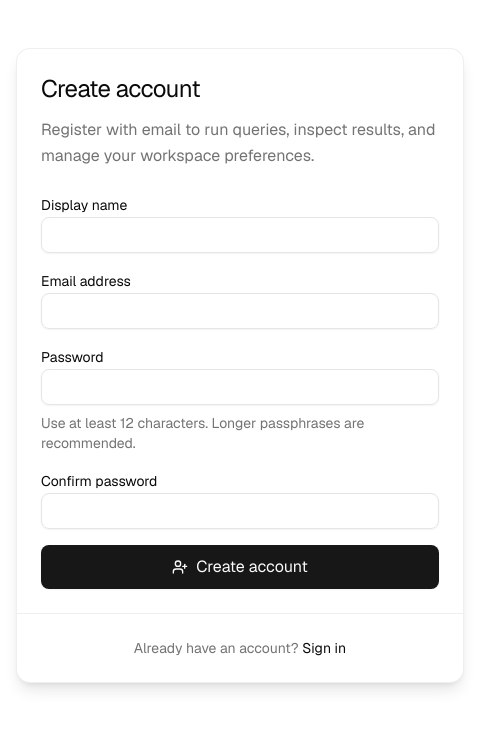
Test case: SignupPage › shows client-side validation errors for invalid input
Type "A" into the field labelled "Display name" at (240, 234), box [41,216,439,252]
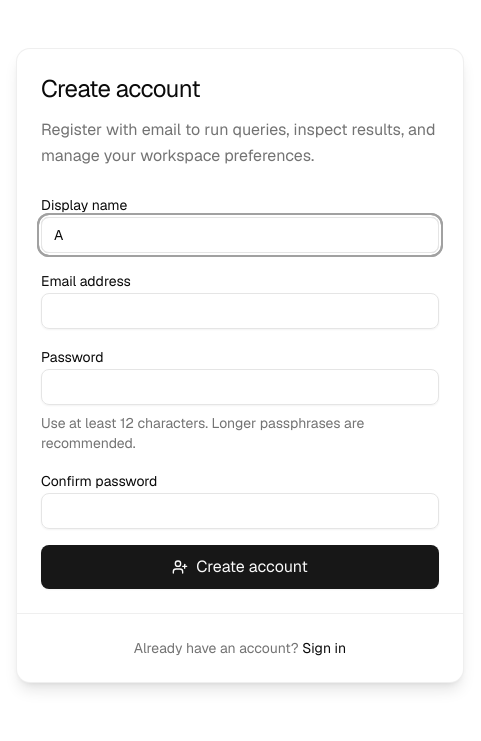
Type "not-an-email" into the field labelled "Email address" at (240, 310), box [41,292,439,328]
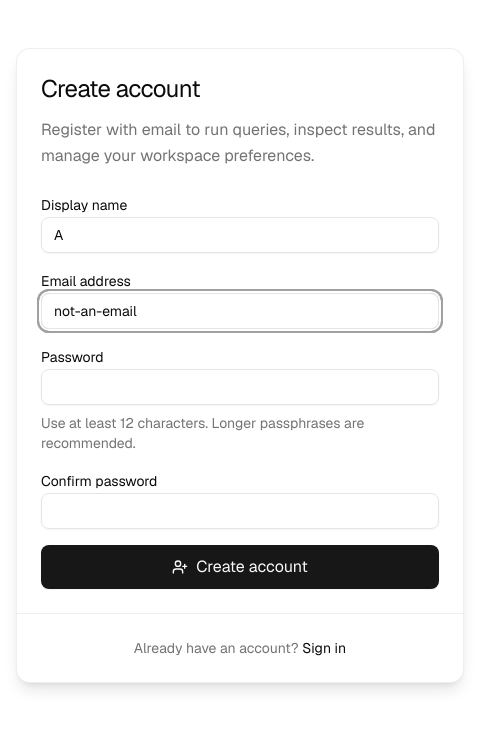
Type "short" into the password field labelled "Password" at (240, 386), box [41,368,439,404]
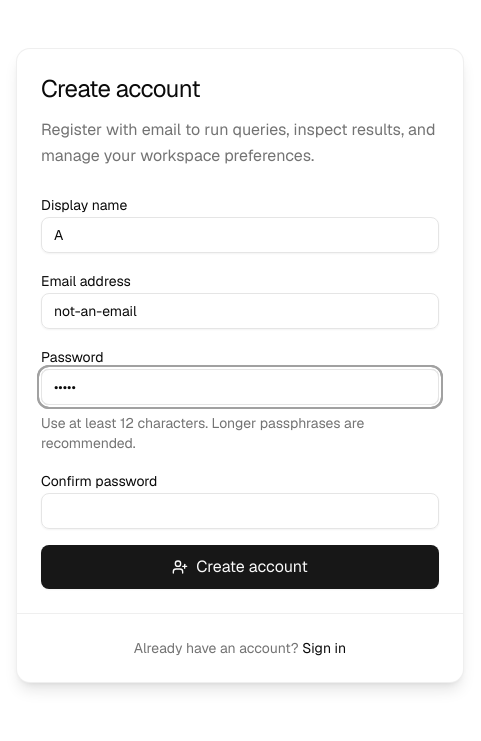
Type "different" into the password field labelled "Confirm password" at (240, 510), box [41,492,439,528]
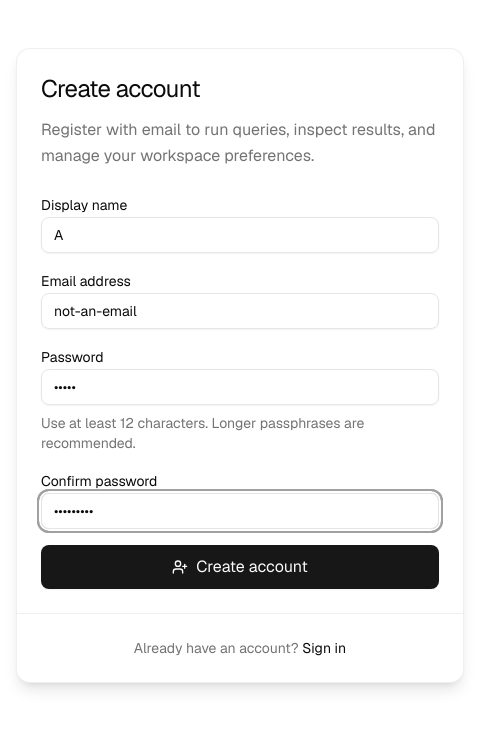
Click the button "Create account" at (240, 566), box [41,544,439,588]
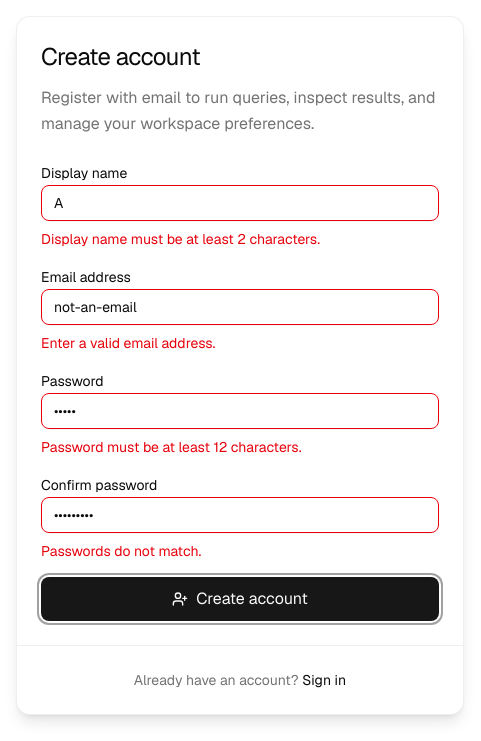
Expected: the text "Display name must be at least 2 characters." is shown, [41,230,320,248]
Expected: the text "Enter a valid email address." is shown, [41,334,215,352]
Expected: the text "Password must be at least 12 characters." is shown, [41,438,302,456]
